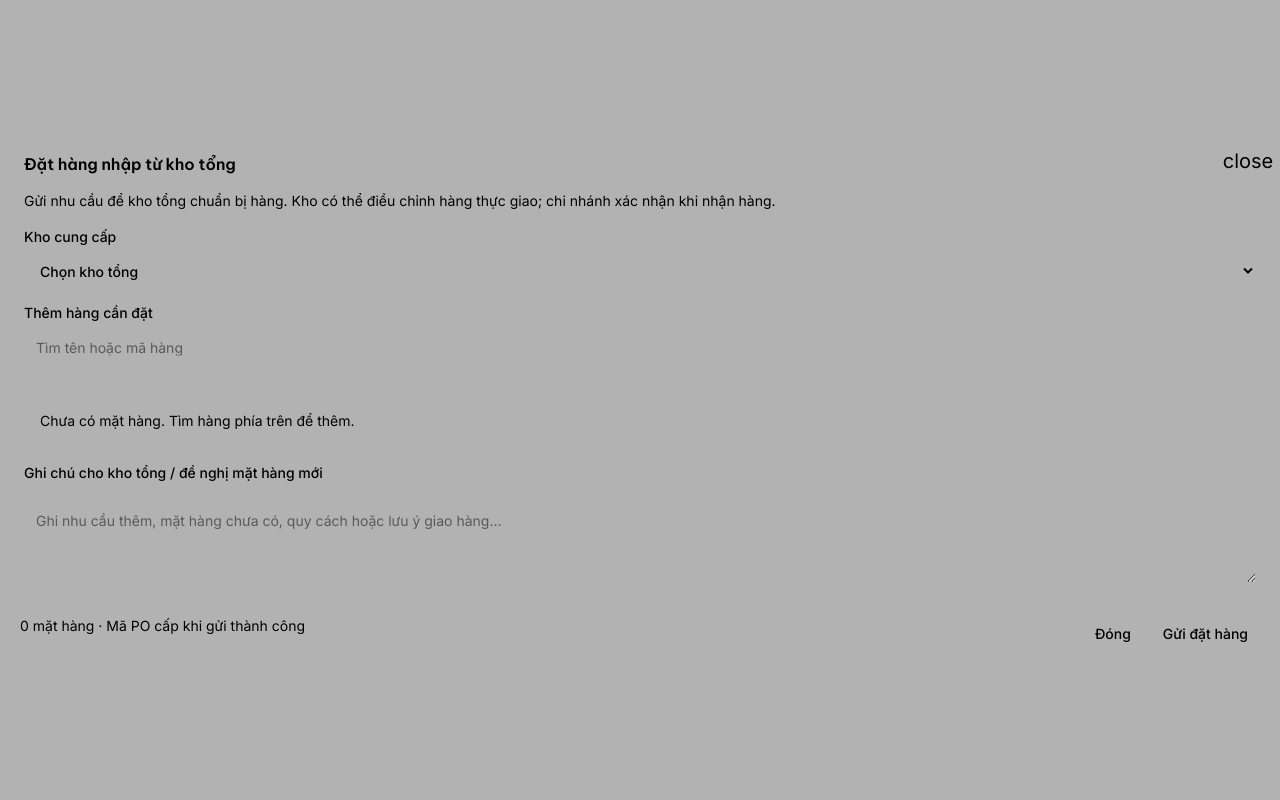
it: F&B warehouse order form › labels near results without replacing the query or selecting any SKU
The image size is (1280, 800).
Type "sau" into the field labelled "Thêm hàng cần đặt" at [640, 346], box [24,326,1256,366]
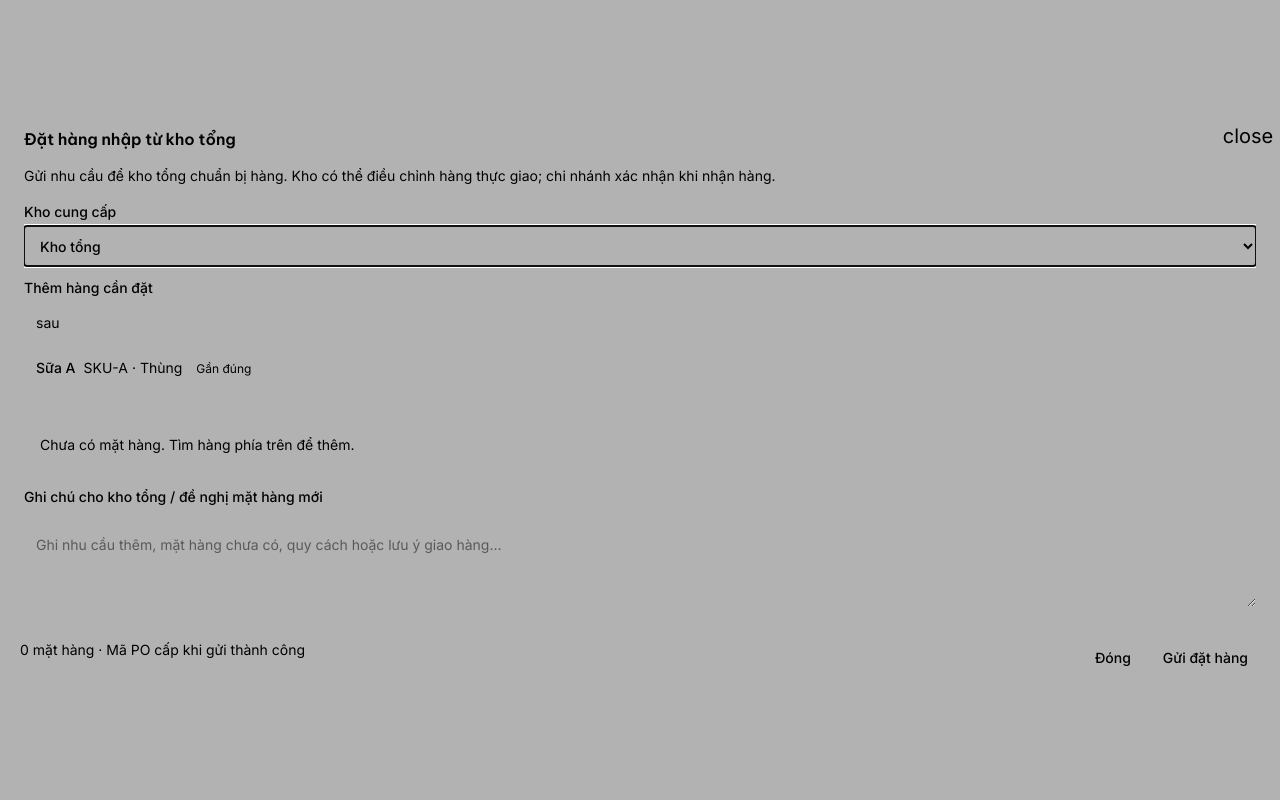
Expected: the button "Gửi đặt hàng" is disabled, [1151,640,1260,676]
Expected: the text "Gần đúng" is shown, [196,361,251,376]
